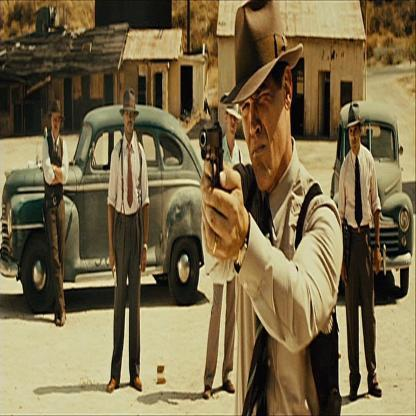gun: (194, 114, 234, 196)
